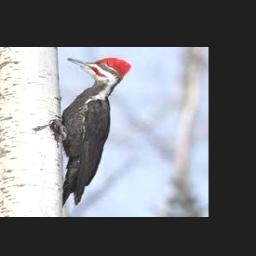Woodpecker: (53, 58, 131, 208)
